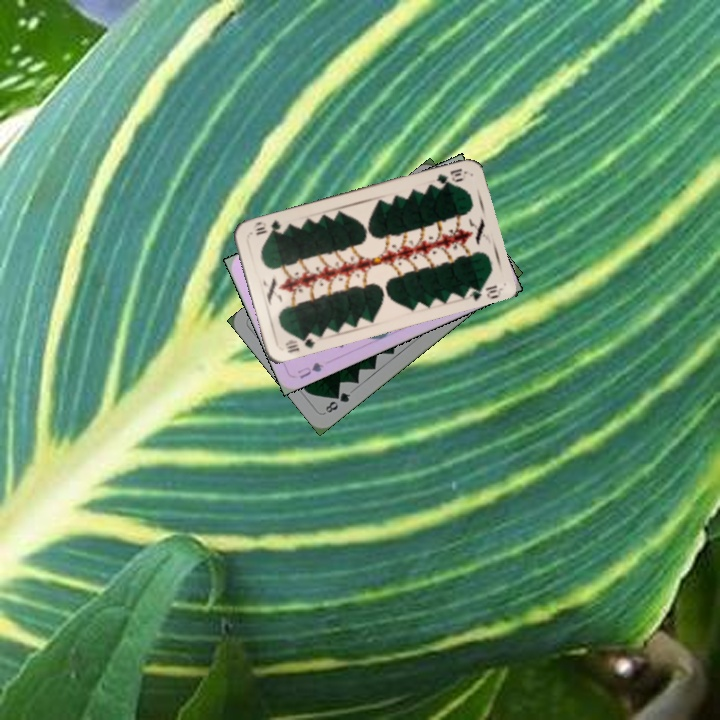G10: (281, 330, 318, 356), (432, 164, 465, 188)
G8: (321, 388, 353, 416)
GU: (293, 358, 326, 382)
